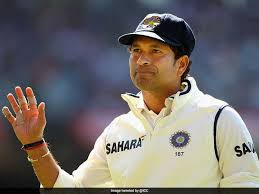NoMask: (129, 42, 168, 90)
